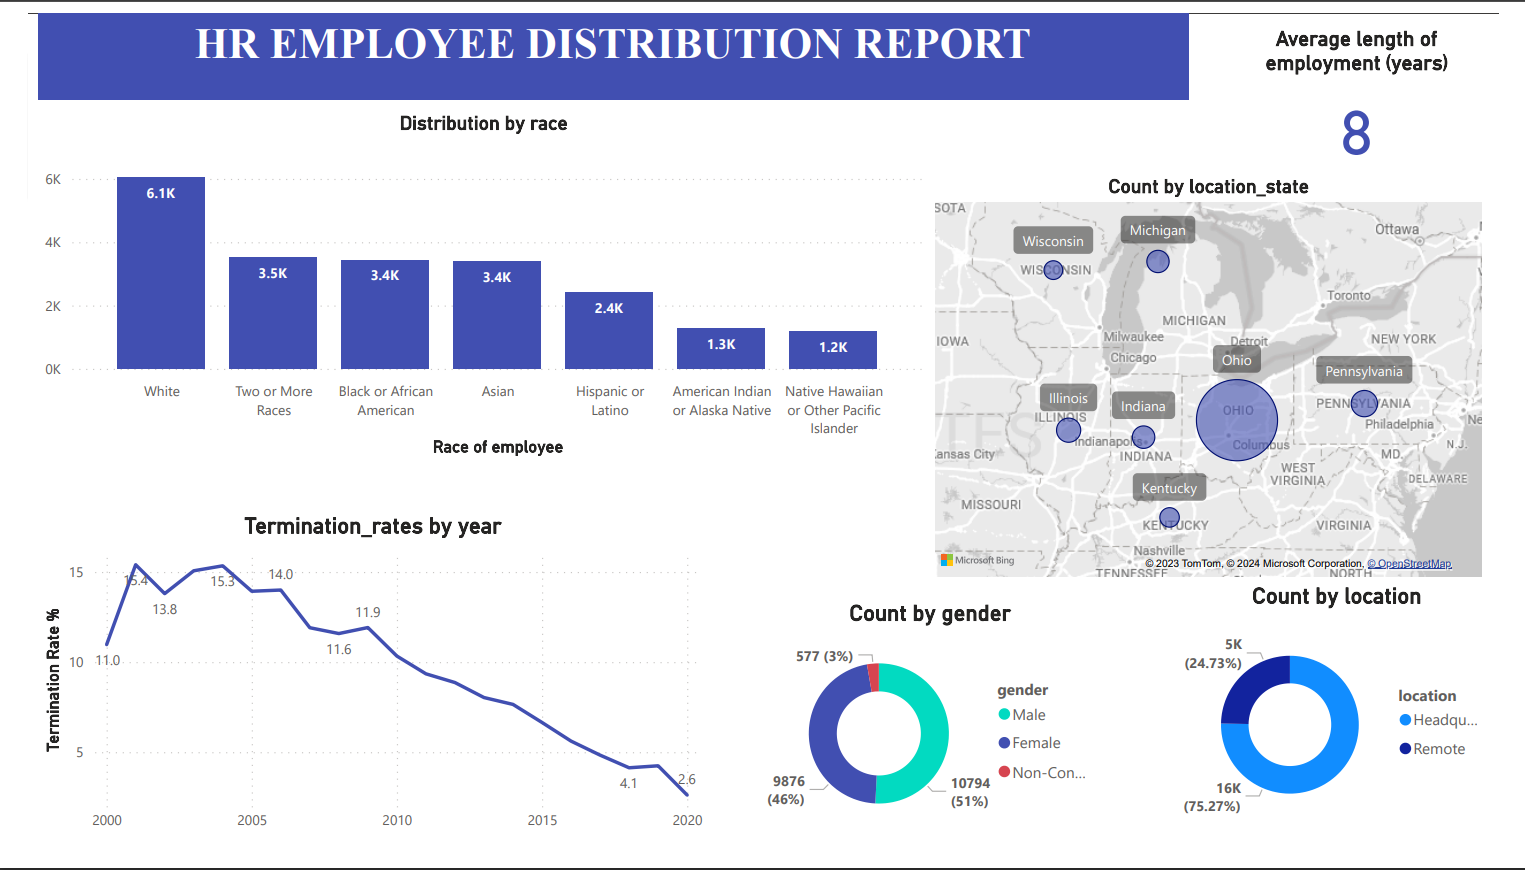

The dashboard page shown, as its layout file describes it:
{"tool":"powerbi","page":{"name":"Page 1","canvas":[1280,720],"ordinal":0},"visuals":[{"type":"textbox","box":[9.4,0,1000.5,75.3],"z":0},{"type":"card","title":"Average length of employment (years)","fields":{"Values":["Sum(avg_length_employment.avg_length_of_employment)"]},"box":[1042.2,10.8,228.6,129.1],"z":1000},{"type":"donutChart","title":"Count by gender","fields":{"Category":["gender.gender"],"Y":["Sum(gender.count)"]},"box":[632.1,509.7,306.6,209.8],"z":2000},{"type":"donutChart","title":"Count by location","fields":{"Y":["Sum(location.count)"],"Category":["location.location"]},"box":[999.2,494.9,281.1,224.6],"z":3000},{"type":"lineChart","fields":{"Category":["emp_change.year"],"Y":["Sum(emp_change.termination_rates)"]},"box":[9.4,434.4,582.3,285.1],"z":4000},{"type":"map","title":"Count by location_state","fields":{"Size":["Sum(states.count)"],"Category":["states.location_state"]},"box":[785.4,139.9,485.5,355],"z":5000},{"type":"clusteredColumnChart","title":"Distribution by race","fields":{"Category":["race.race"],"Y":["Sum(race.count)"]},"box":[9.4,84.7,776,305.3],"z":6000}]}

Visuals, with their boxes in screenshot pixels (x1, y1, x2, y2), scaled from the page's 1280x720 canvas onto the 1525x870 screenshot:
textbox: (11, 0, 1203, 91)
"Average length of employment (years)" card: (1242, 13, 1514, 169)
"Count by gender" donutChart: (753, 616, 1118, 869)
"Count by location" donutChart: (1190, 598, 1524, 869)
lineChart - emp_change.year x Sum(emp_change.termination_rates): (11, 525, 705, 869)
"Count by location_state" map: (936, 169, 1514, 598)
"Distribution by race" clusteredColumnChart: (11, 102, 936, 471)
